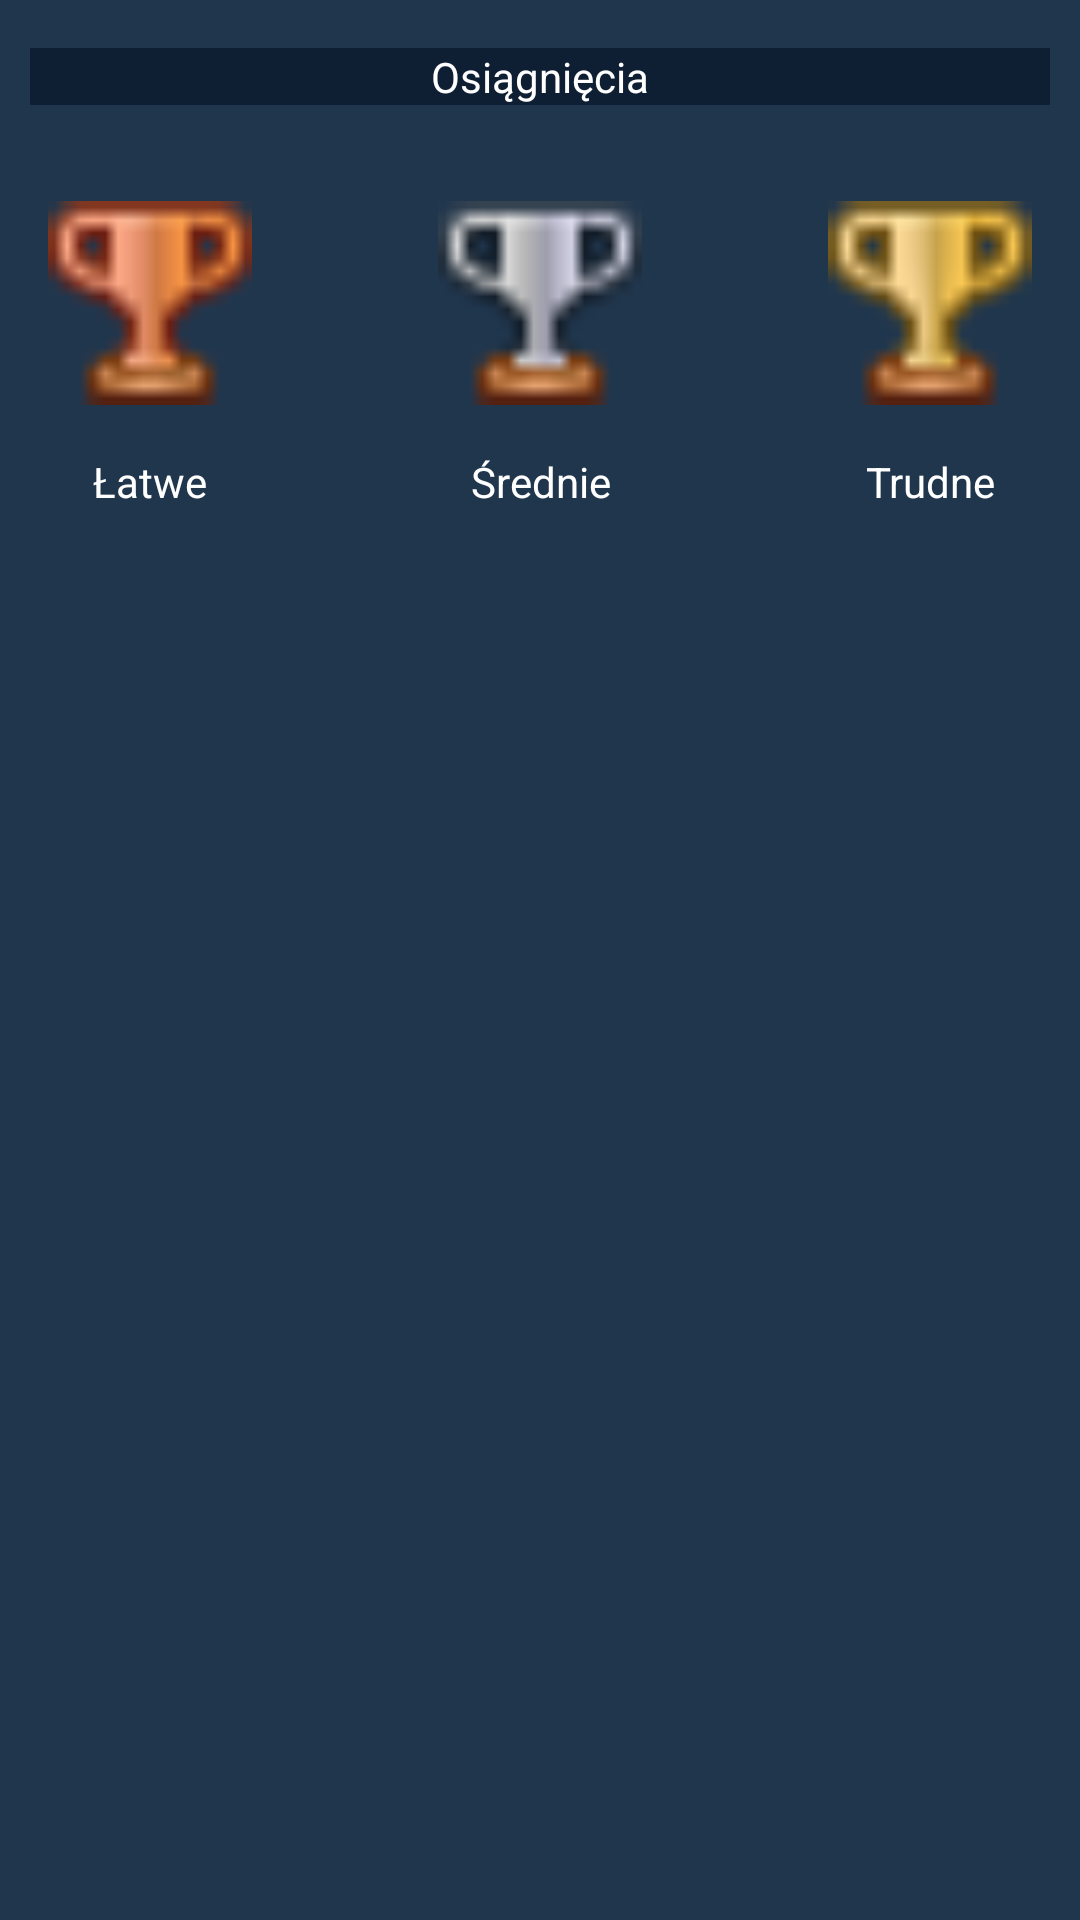

Named icons in this screenshot (1080 x 1920) and their centers, (x,y):
trophy bronze: (150,303)
trophy gold: (930,303)
trophy silver: (540,306)
